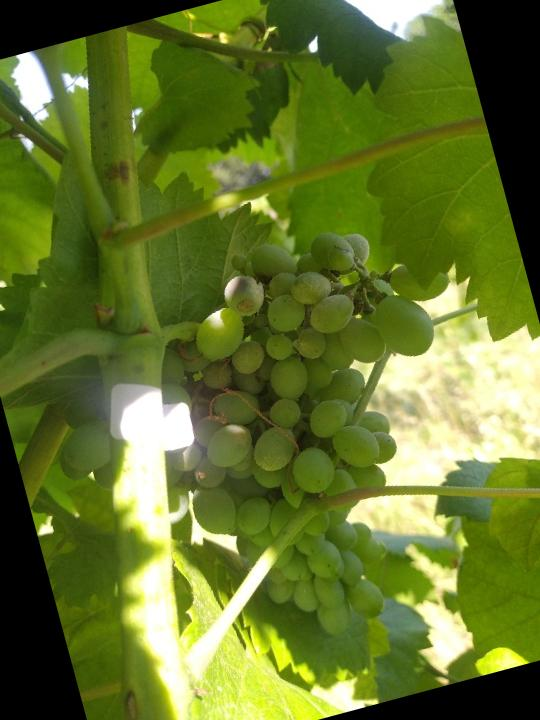grape: (15, 193, 537, 699)
